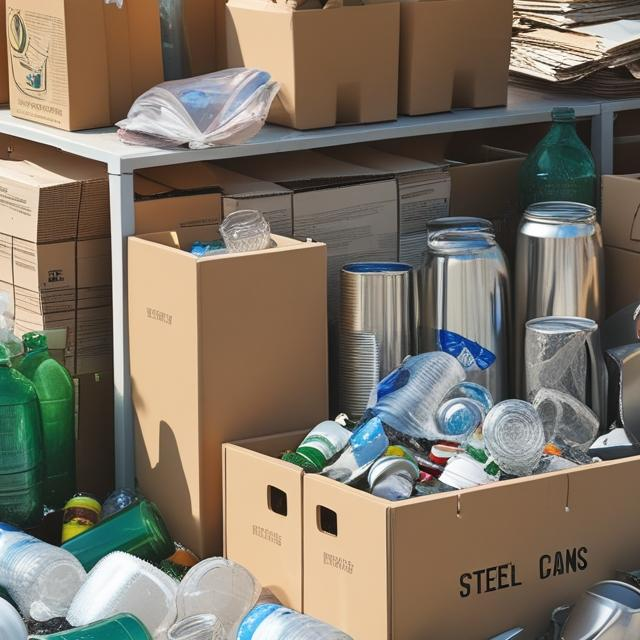metal: (526, 206, 609, 328)
plastic: (101, 56, 299, 150)
